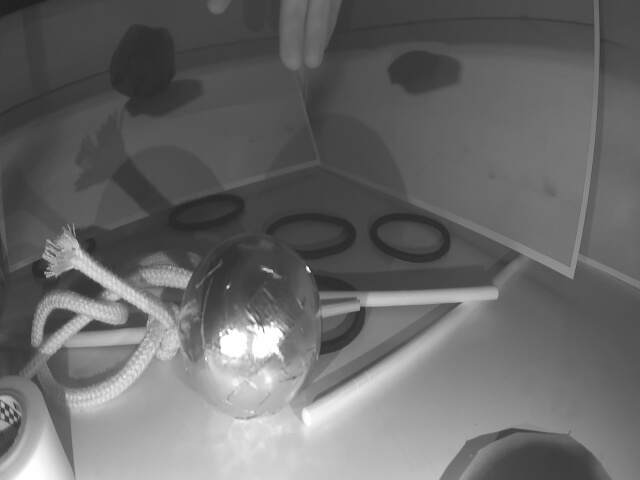Live: (180, 233, 320, 423)
